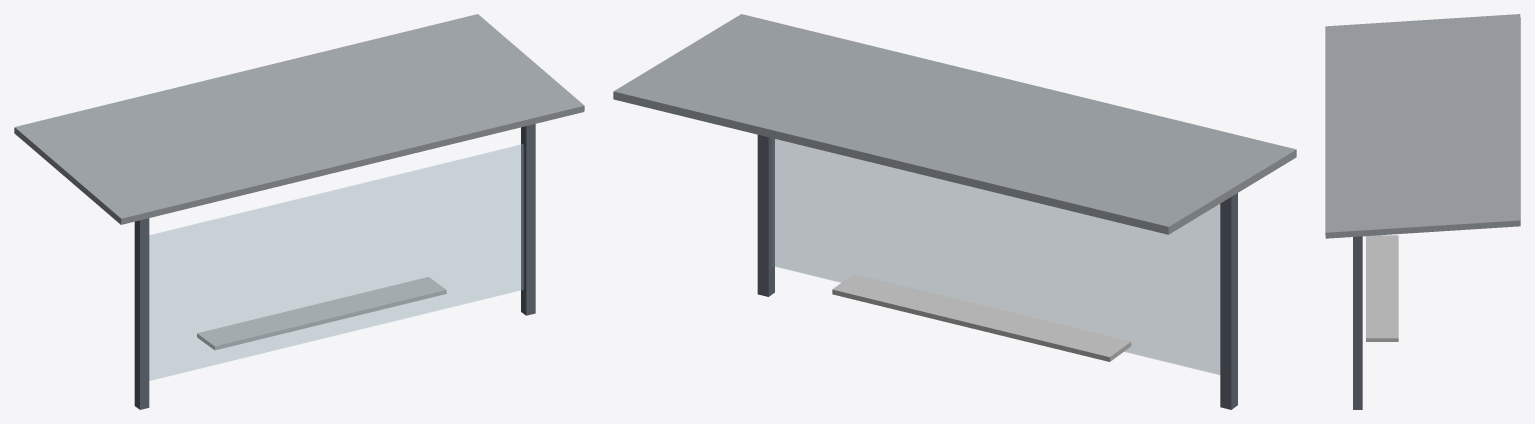
File: rail.feature.shelter.glb
The picture shows the model from 3 angles, left to right: view 1: azimuth 30°, elevation 25°; view 2: azimuth 150°, elevation 25°; view 3: azimuth 270°, elevation 25°; orthographic projection. The views are drawn at different scales.
Parts seen in each view (by area): view 1: main__steel_galvanised, main__glass, main__steel_painted, main__steel_stainless; view 2: main__steel_galvanised, main__glass, main__steel_stainless, main__steel_painted; view 3: main__steel_galvanised, main__steel_stainless, main__steel_painted.
Part boxes in pixels (x1,y1,x2,y2): main__steel_galvanised: [14, 14, 584, 224]; main__glass: [149, 144, 523, 380]; main__steel_painted: [134, 124, 535, 409]; main__steel_stainless: [197, 277, 446, 350]; main__steel_galvanised: [613, 14, 1296, 234]; main__glass: [772, 138, 1219, 374]; main__steel_stainless: [832, 274, 1131, 361]; main__steel_painted: [757, 135, 1237, 409]; main__steel_galvanised: [1325, 14, 1520, 238]; main__steel_stainless: [1366, 235, 1398, 341]; main__steel_painted: [1353, 236, 1362, 409].
Bounding box in the file's own units: 6 × 2.77 × 2.4.
